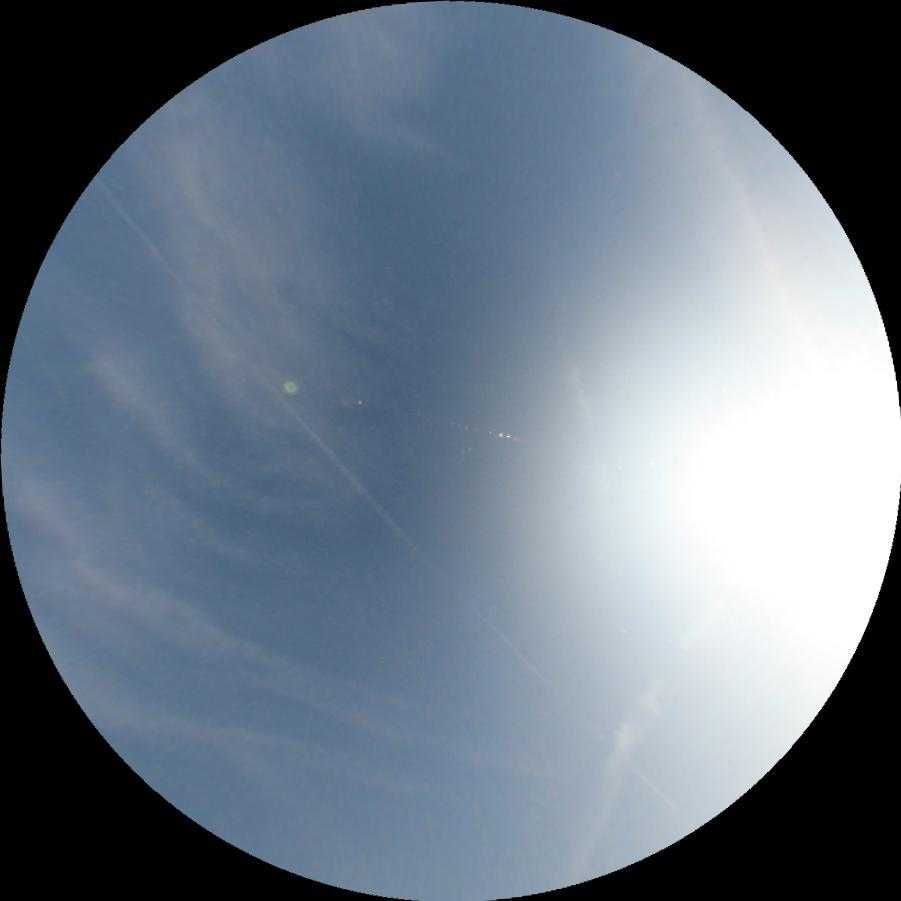contrail old: (83, 173, 688, 835)
contrail veryold: (56, 556, 591, 811), (618, 13, 781, 308), (551, 673, 671, 889)
